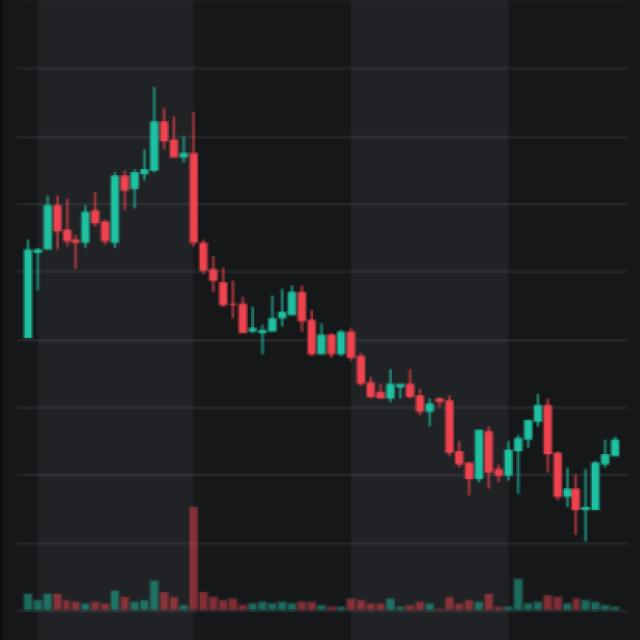Support-breakout: (21, 91, 452, 463)
